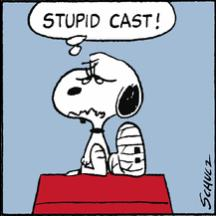snoopy: (49, 51, 148, 178)
